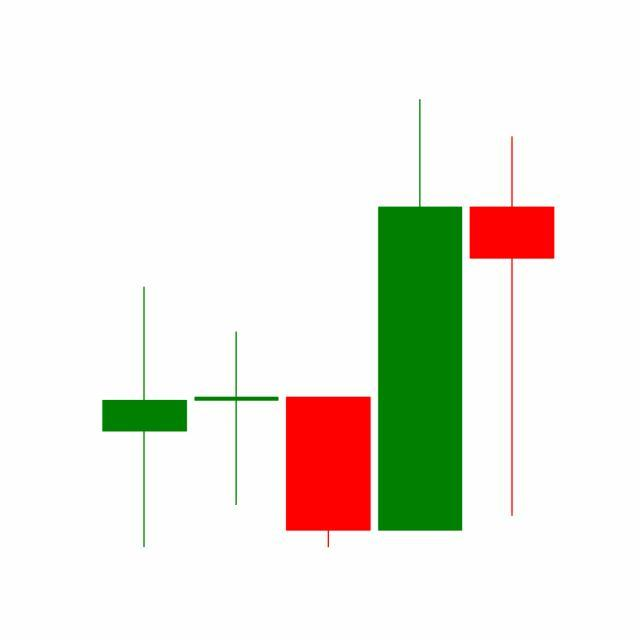Spinning Top: (466, 132, 559, 521)
